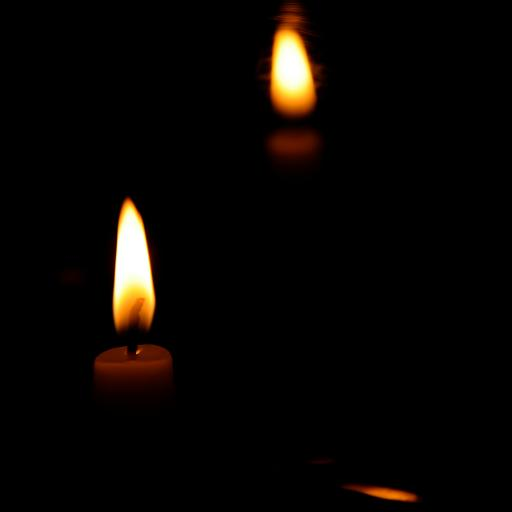candlelight: (47, 182, 218, 436), (230, 18, 343, 155)
